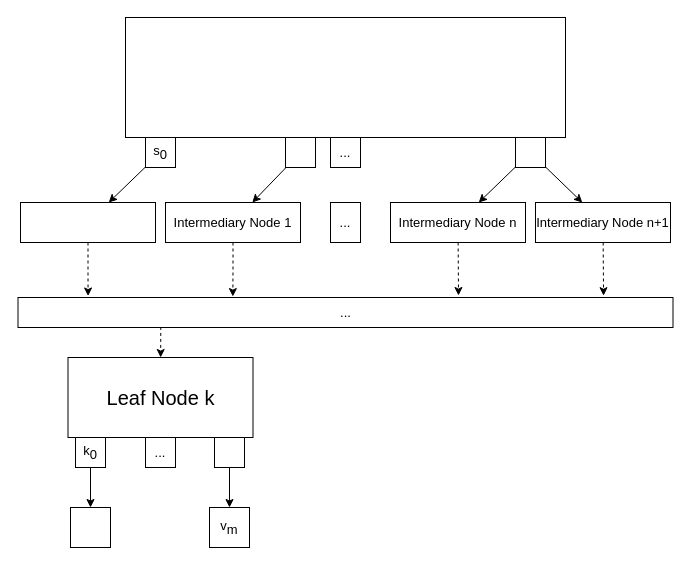
This 690x565 diagram has some shape labels left out. The centre of each missing label's shape, as x and y in pixels:
"Intermediary Node 0" goes at (88,222).
"k m" goes at (229,452).
"Root Node" goes at (345,77).
"s 1" goes at (300,152).
"s n" goes at (530,152).
"v 0" goes at (90,527).
